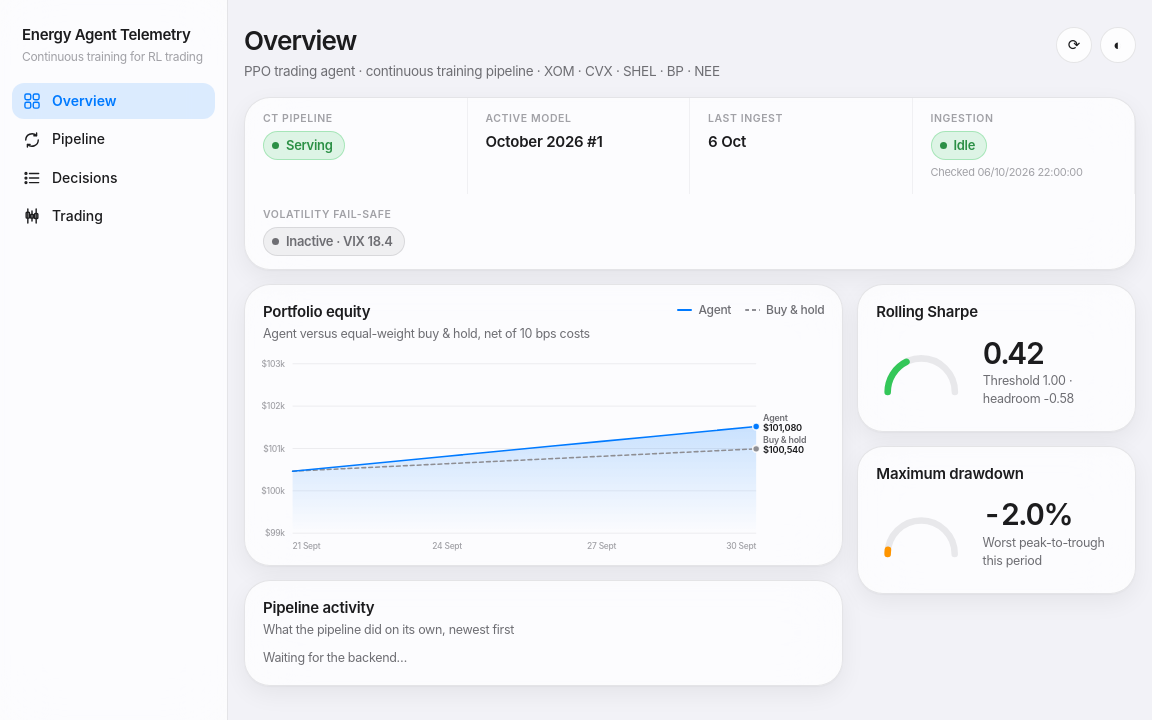
Test: decision-detail sheet › opens from the keyboard as well as the mouse
Click the link "Decisions" at x=70, y=178, box [22,168,117,188]
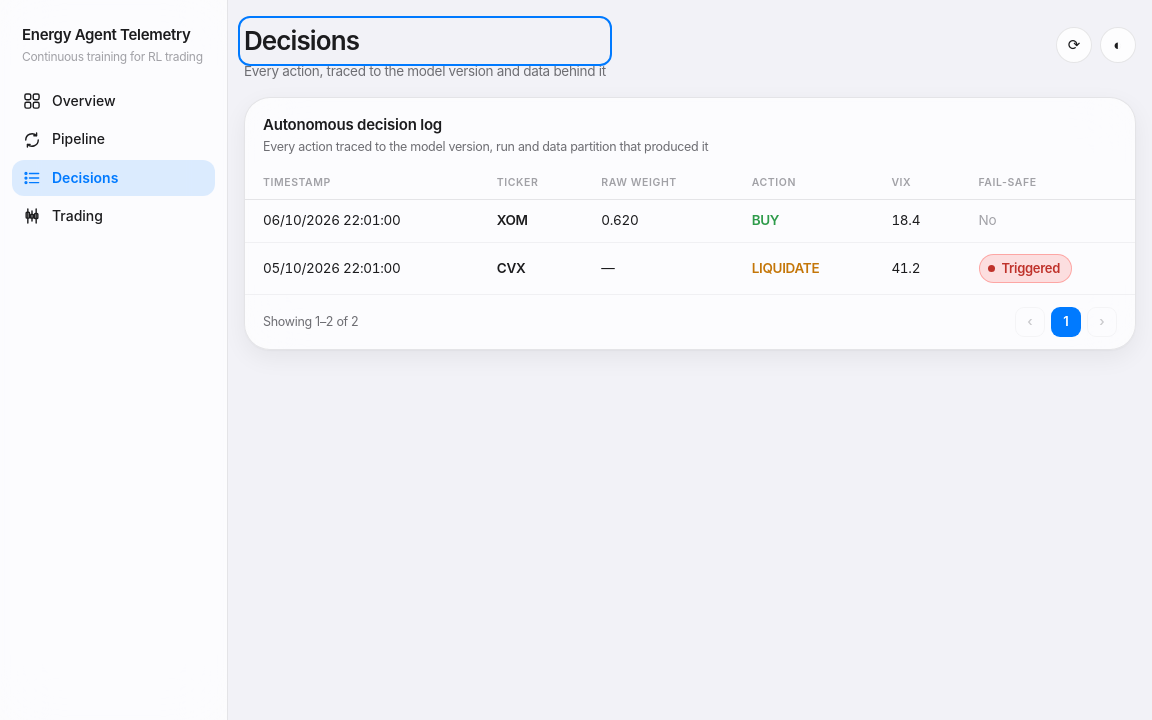
Press Enter in the text "XOM", box [245,200,1135,242]
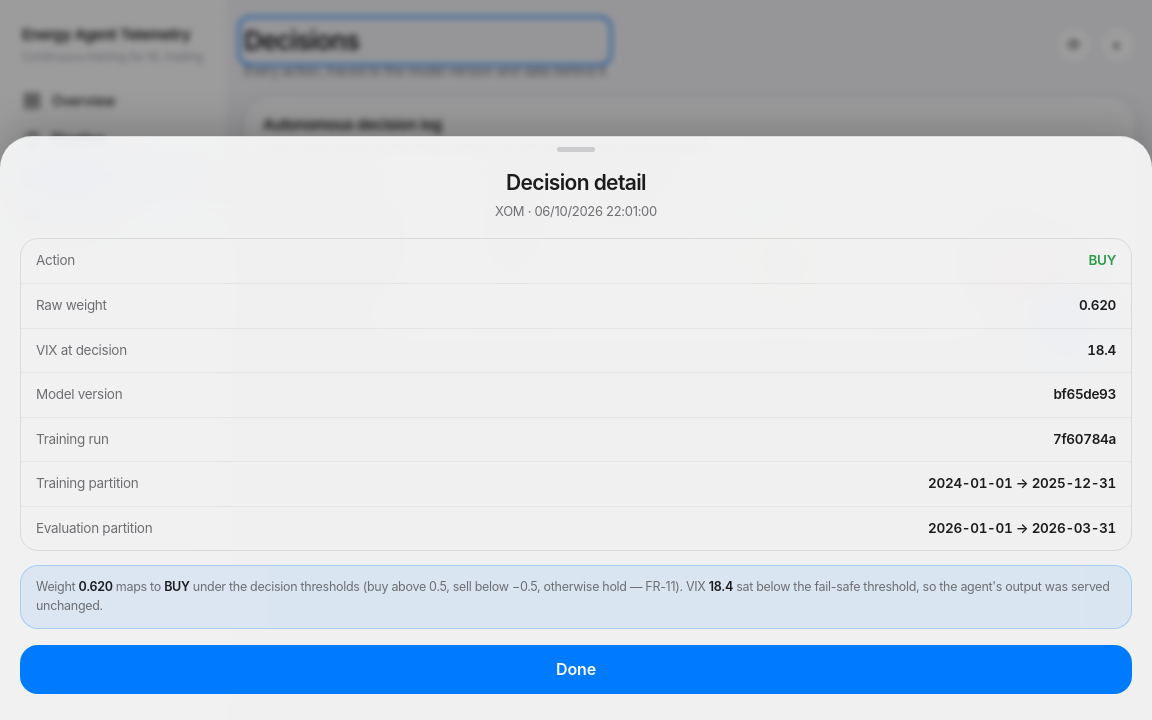
Expected: the dialog "Decision detail" is shown
